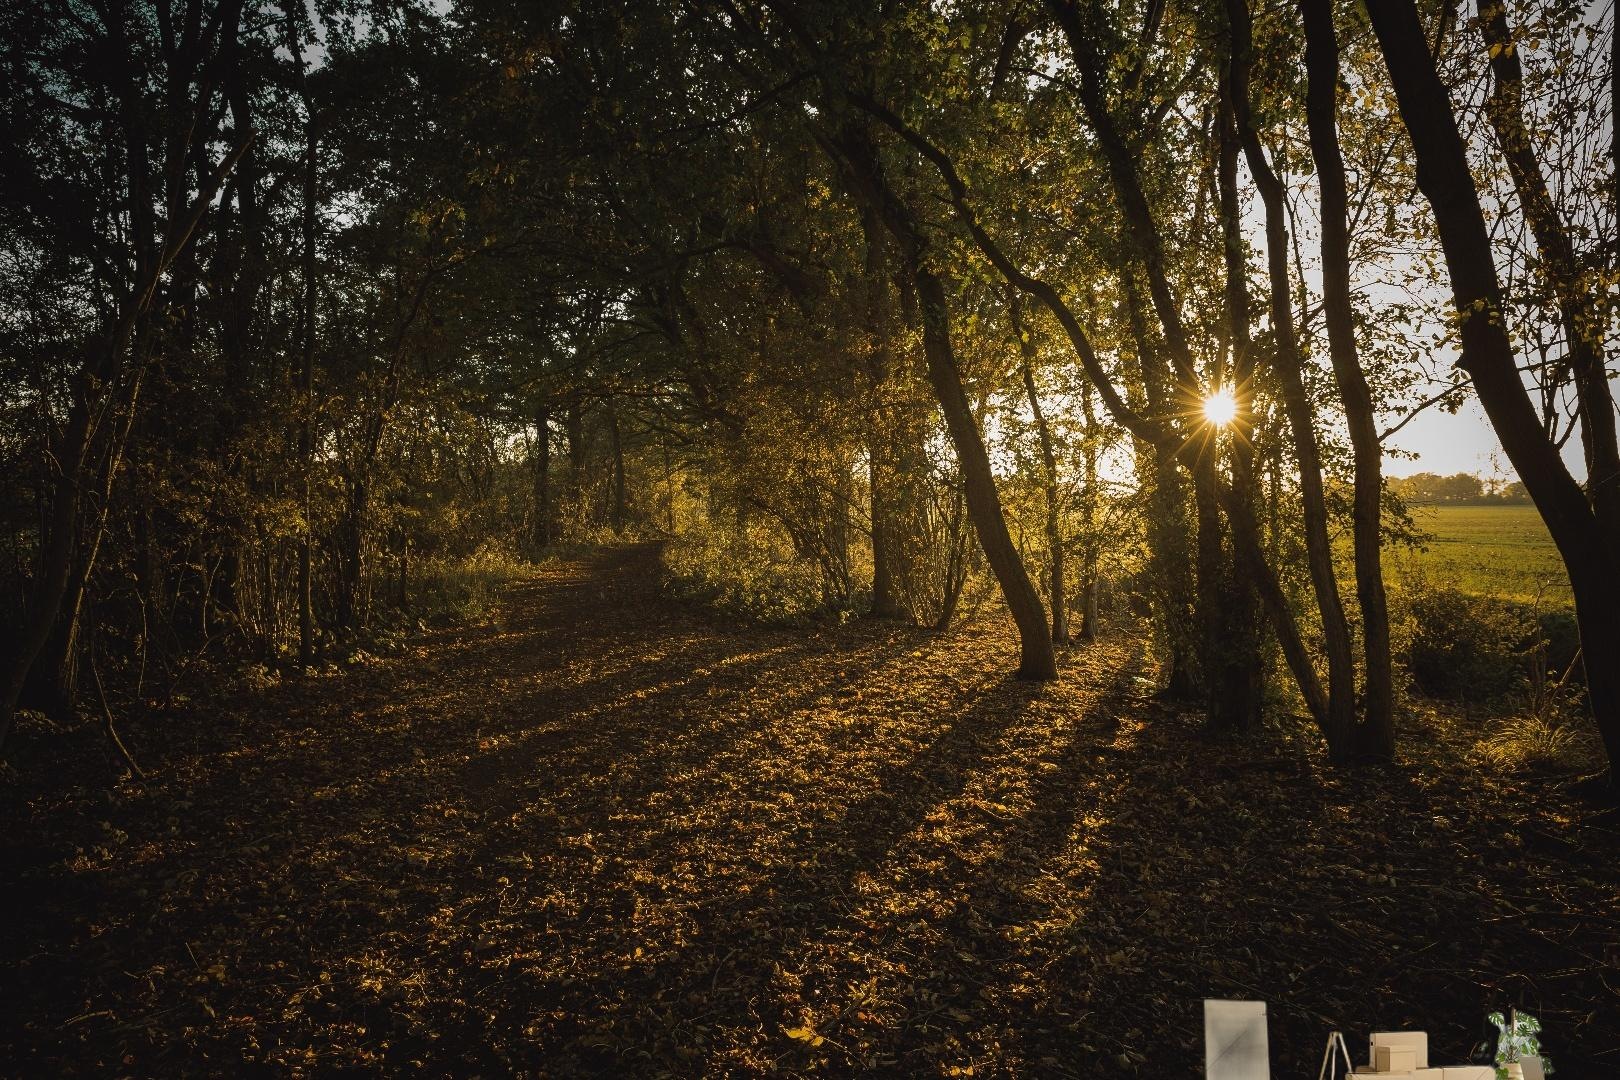trashbox-cardboard: (1185, 992, 1581, 1080)
